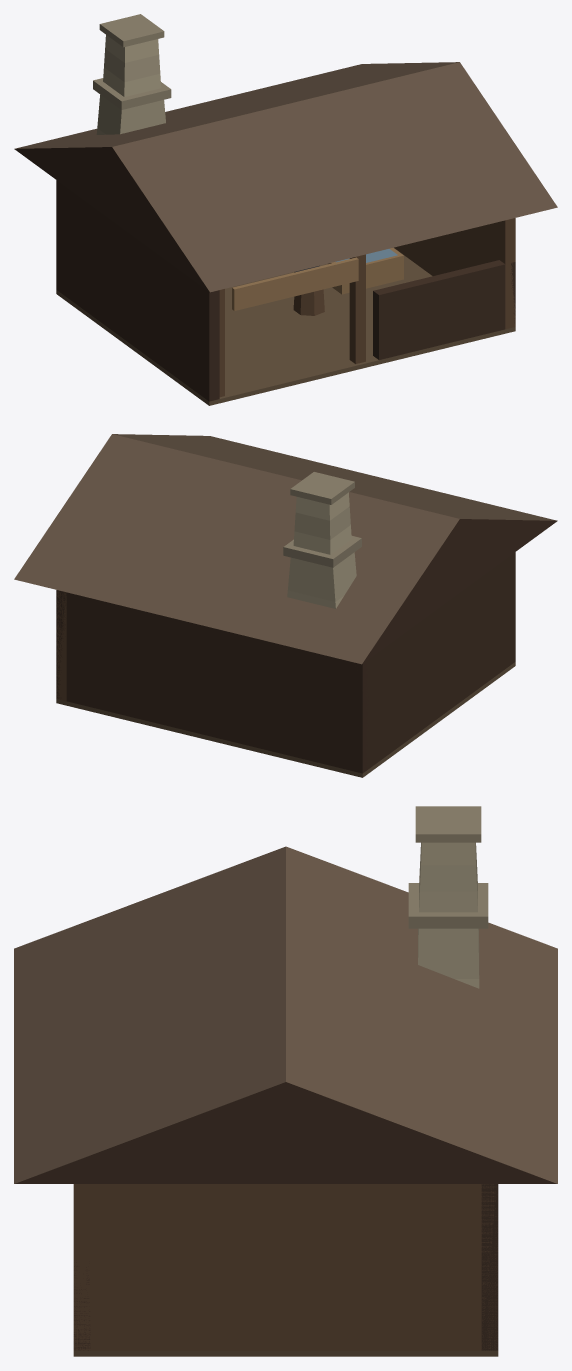
Rendered from smithy.glb.
3 renders of one model, top to bottom at view 1: azimuth 30°, elevation 25°; view 2: azimuth 150°, elevation 25°; view 3: azimuth 270°, elevation 25°, orthographic. The views are drawn at different scales.
Parts seen in each view (by area): view 1: smithy; view 2: smithy; view 3: smithy.
Boxes of the visible parts, x1,y1,x2,y2 form: smithy: (14,14,557,405); smithy: (14,434,557,777); smithy: (14,806,557,1356).
Bounding box in the file's own units: 8.4 × 6.12 × 8.2.
